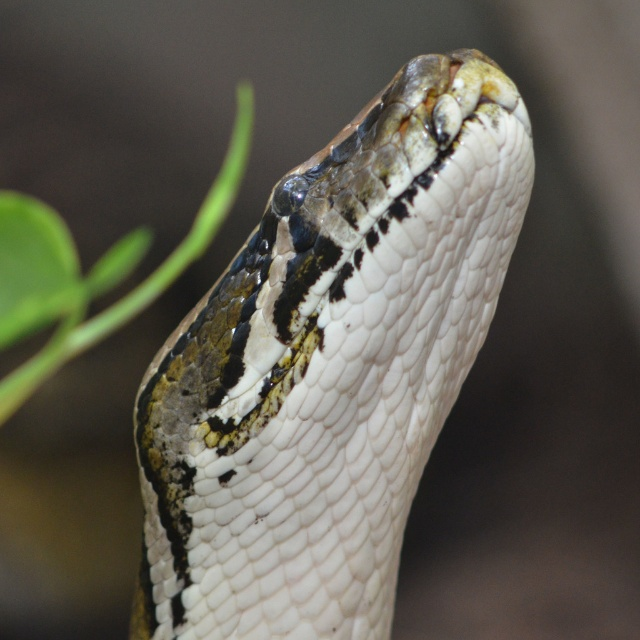Snake: (126, 41, 541, 640)
